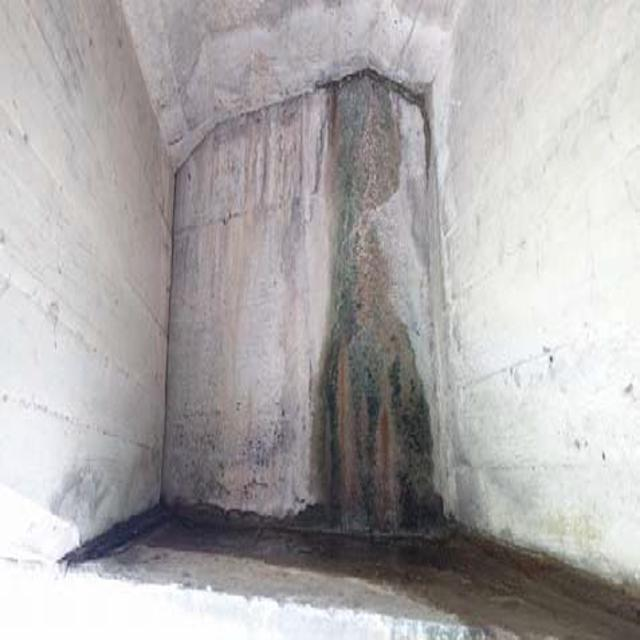leakage: (314, 73, 452, 556)
